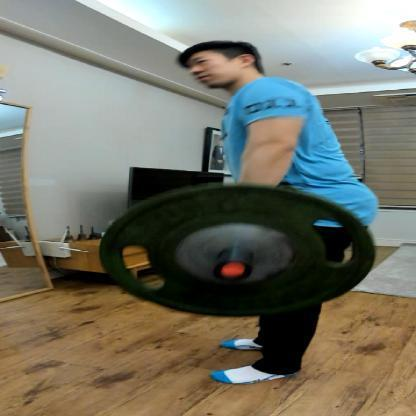barbell: (101, 184, 375, 317)
